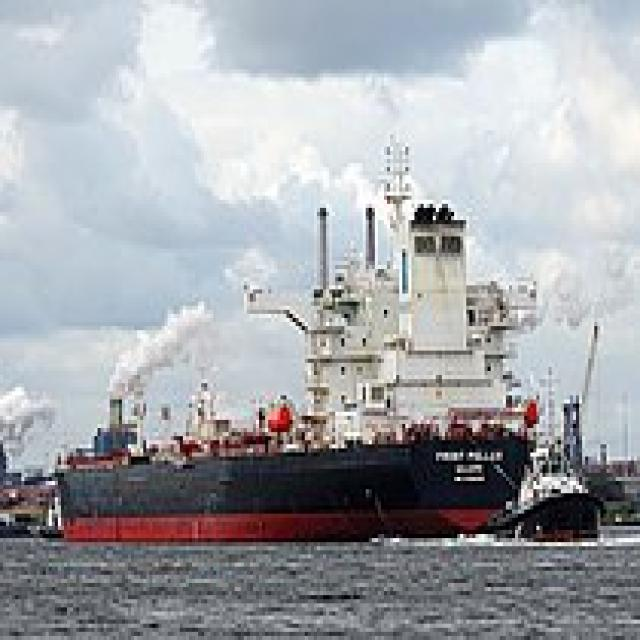Tanker: (52, 122, 539, 542)
